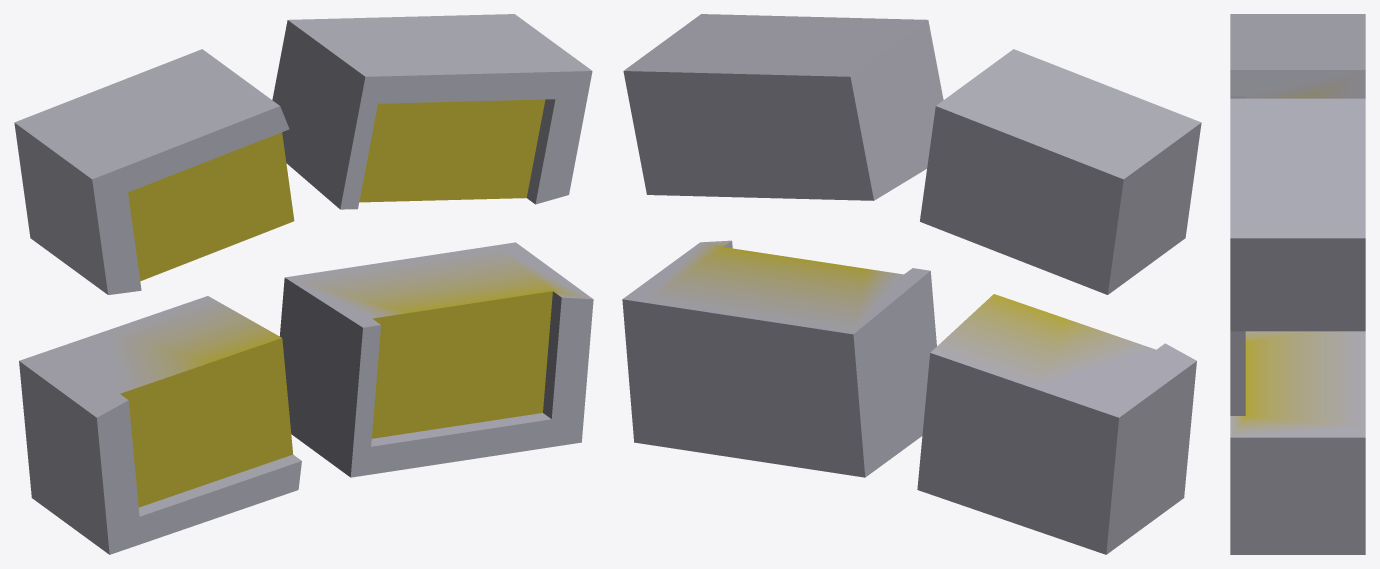
File: spihd_smashedwindow.gltf
The picture shows the model from 3 angles, left to right: view 1: azimuth 30°, elevation 25°; view 2: azimuth 150°, elevation 25°; view 3: azimuth 270°, elevation 25°; orthographic projection. The views are drawn at different scales.
Parts seen in each view (by area): view 1: SmashedWindow; view 2: SmashedWindow; view 3: SmashedWindow.
Part boxes in pixels (box(x1,y1,x2,y2)): SmashedWindow: box(14, 14, 593, 554); SmashedWindow: box(622, 14, 1201, 554); SmashedWindow: box(1230, 14, 1365, 554).
Bounding box in the file's own units: 1.73 × 1.38 × 0.4648.
